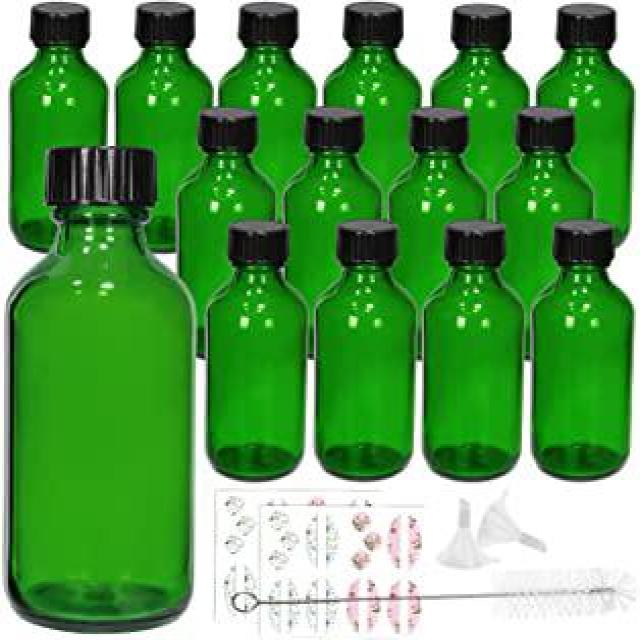non-organic waste: (0, 138, 200, 640)
